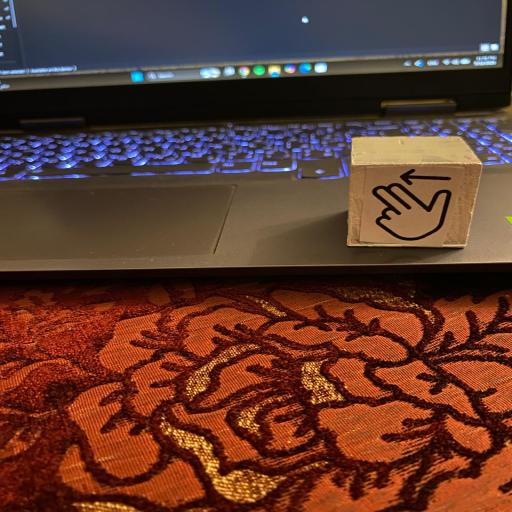LeftSwipe: (345, 136, 482, 250)
